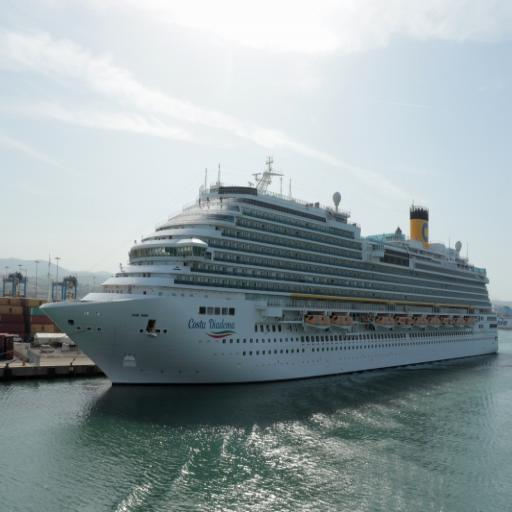cruises: (37, 157, 503, 392)
